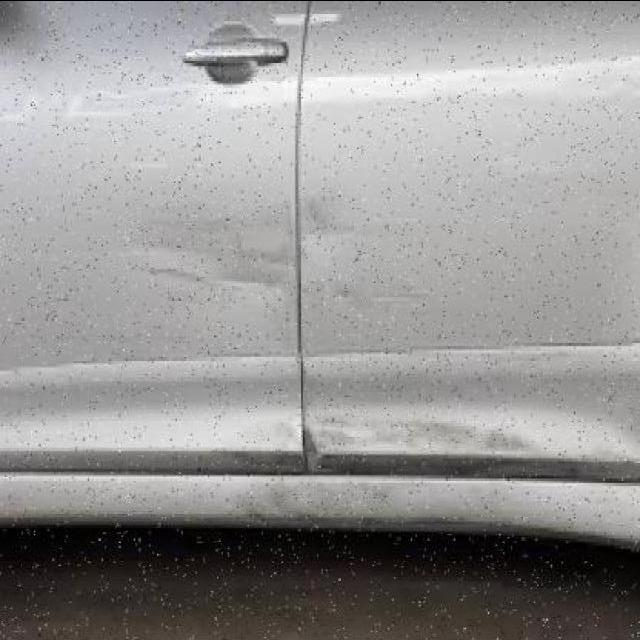RunningBoard-Dent: (5, 439, 431, 535)
doorouter-dent: (296, 3, 638, 475), (4, 0, 300, 472)
